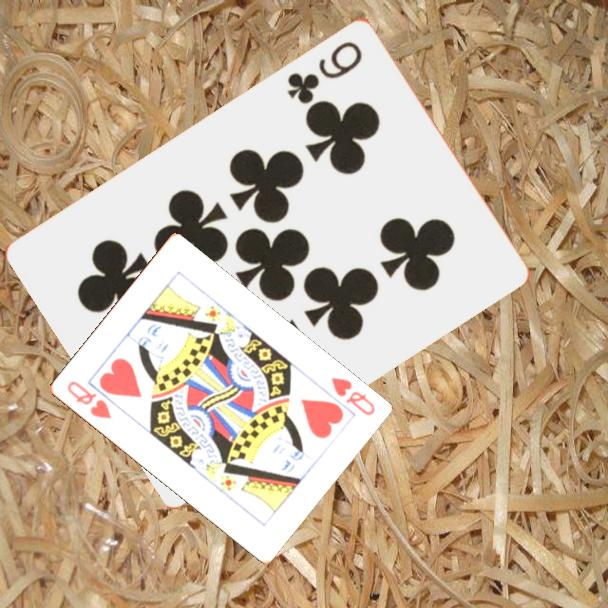c09: (284, 37, 366, 107)
h12: (63, 377, 114, 422), (327, 374, 378, 419)
